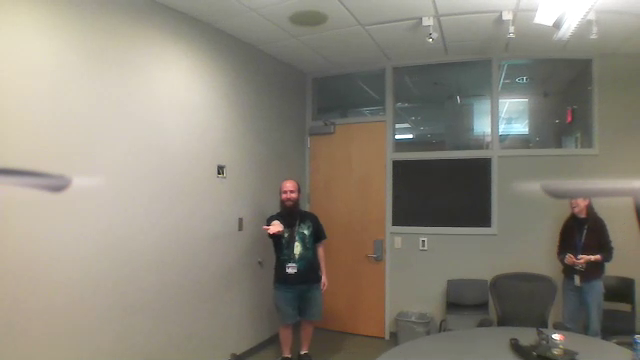land: (258, 221, 291, 238)
